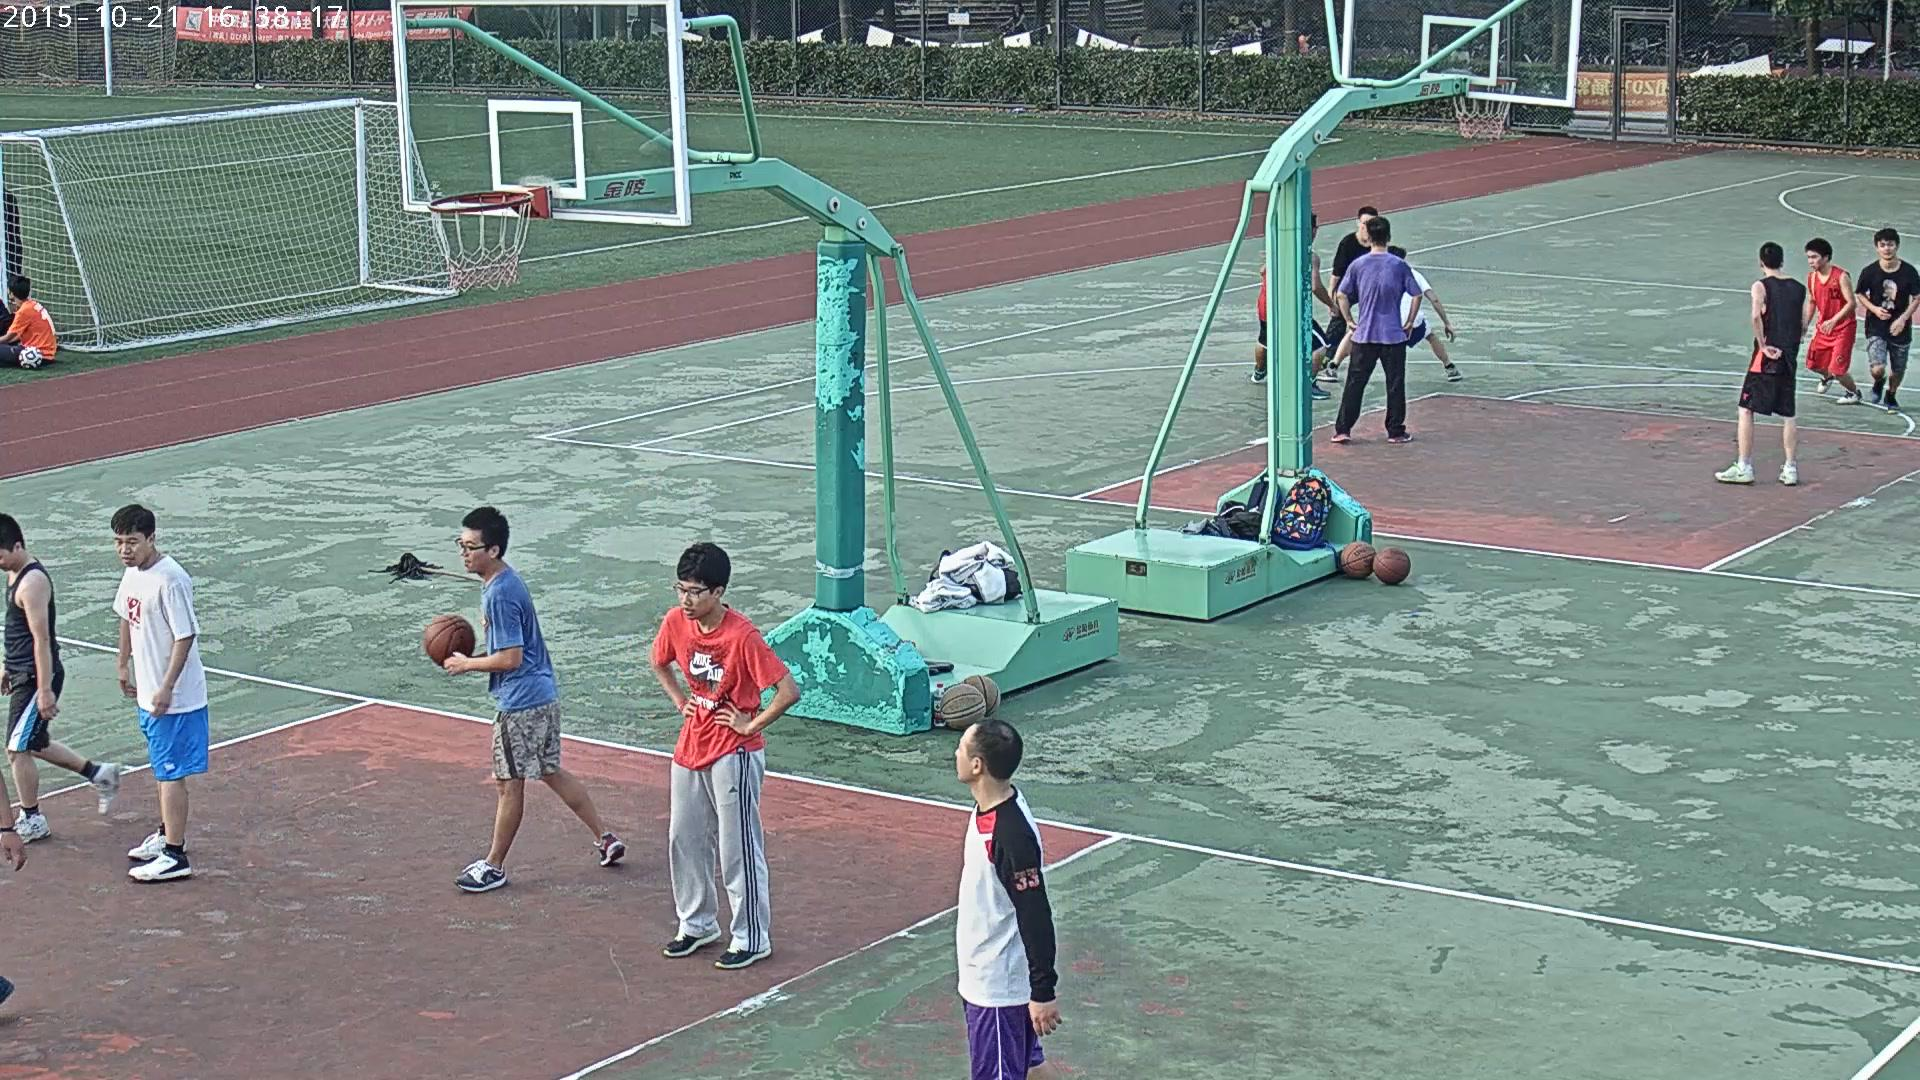face: (679, 580, 713, 620), (461, 526, 489, 572), (956, 723, 974, 782), (116, 533, 149, 566), (1807, 249, 1825, 271), (1877, 238, 1895, 258), (0, 549, 17, 571), (1359, 214, 1376, 238), (1133, 36, 1141, 44), (1014, 3, 1019, 11)
